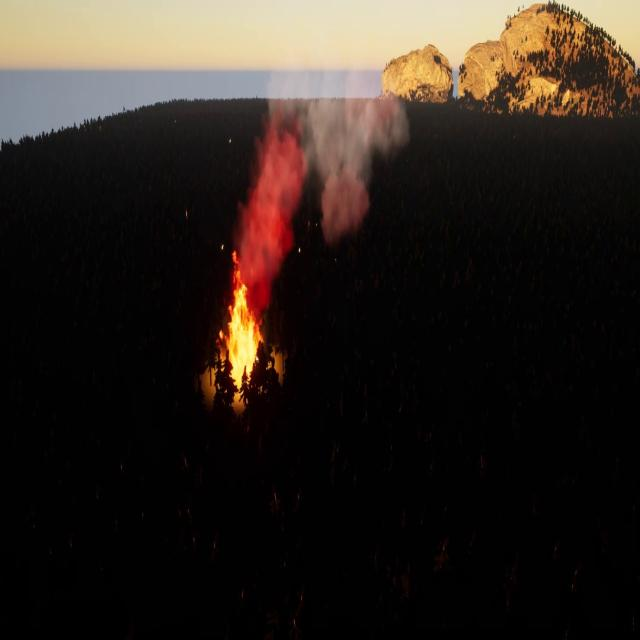fire: (212, 252, 272, 398)
smoke: (236, 70, 414, 302)
